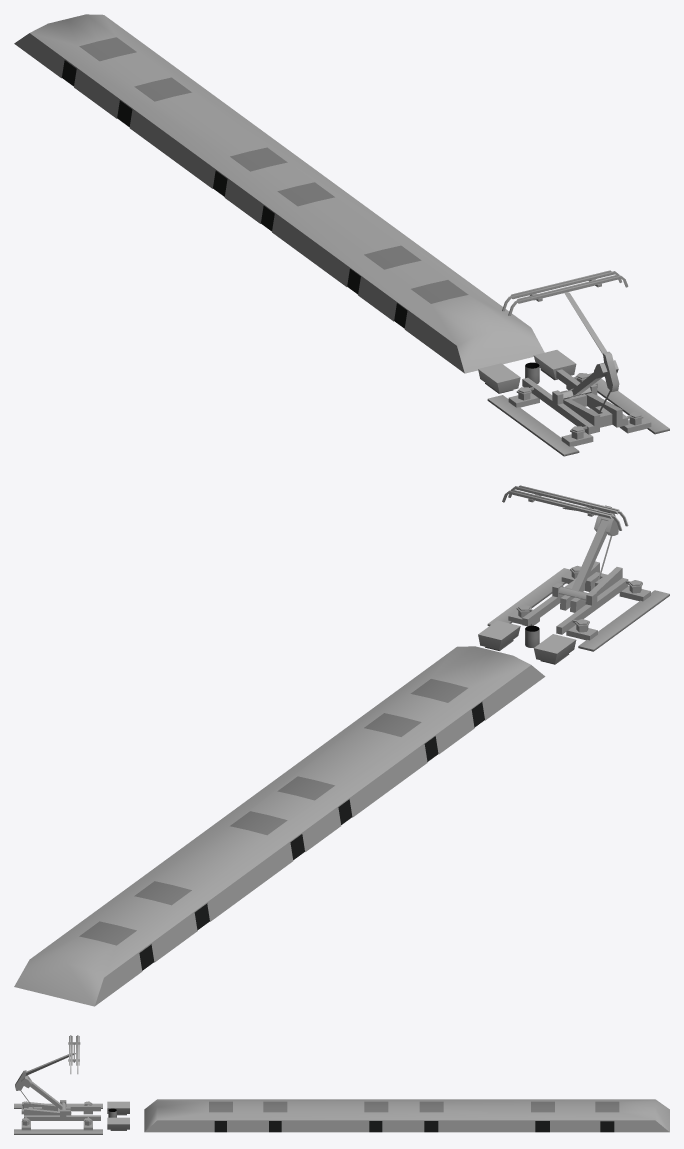
File: DRC_PANTA02.glb
3 views of the same model, one above another, from view 1: azimuth 30°, elevation 25°; view 2: azimuth 150°, elevation 25°; view 3: azimuth 270°, elevation 25° (orthographic). The views are drawn at different scales.
Parts seen in each view (by area): view 1: obj; view 2: obj; view 3: obj.
Boxes of the visible parts, left/top/right/bottom form: obj: left=14, top=14, right=669, bottom=456; obj: left=14, top=485, right=669, bottom=1006; obj: left=14, top=1035, right=669, bottom=1134.
Size of the model in its own units: 4.29 by 4.19 by 34.91.
Materials: 12 (12 with a texture image).
